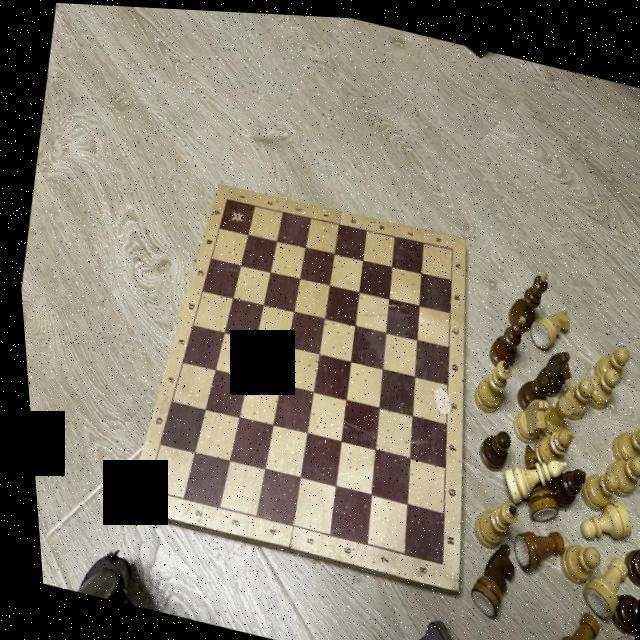chess-table-corners: (429, 554, 438, 564), (136, 484, 144, 492), (445, 241, 452, 248), (222, 194, 226, 199)
